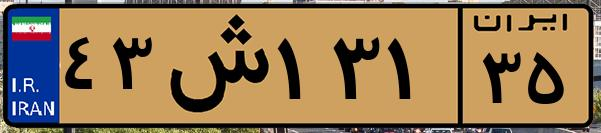1: (270, 28, 330, 110), (385, 28, 445, 110)
3: (330, 28, 385, 110), (475, 38, 525, 113), (110, 28, 158, 98)
4: (57, 26, 110, 100)
5: (525, 38, 570, 115)
ش: (158, 12, 270, 120)
